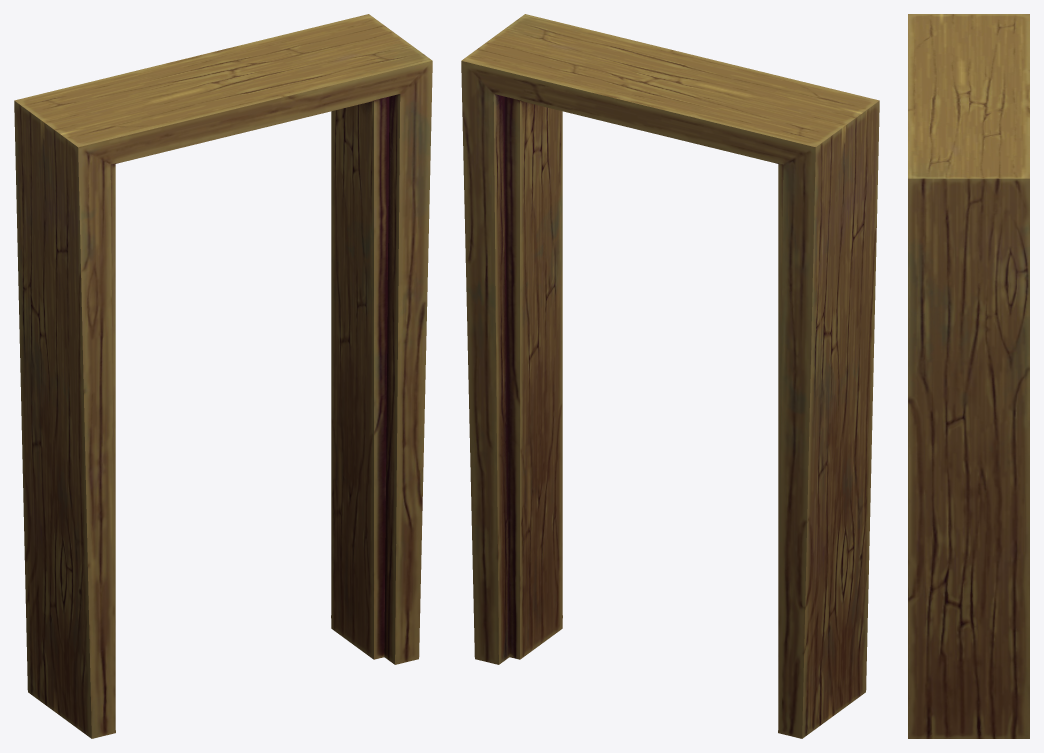
File: DoorFrame.fbx
The picture shows the model from 3 angles, left to right: view 1: azimuth 30°, elevation 25°; view 2: azimuth 150°, elevation 25°; view 3: azimuth 270°, elevation 25°; orthographic projection. The views are drawn at different scales.
Parts seen in each view (by area): view 1: Door_Frame_low; view 2: Door_Frame_low; view 3: Door_Frame_low.
Part boxes in pixels (<box>): Door_Frame_low: <box>14,14,432,738</box>; Door_Frame_low: <box>461,14,879,738</box>; Door_Frame_low: <box>908,14,1029,738</box>.
Size of the model in its own units: 131 by 210 by 40.98.
Materials: 1 (1 with a texture image).
